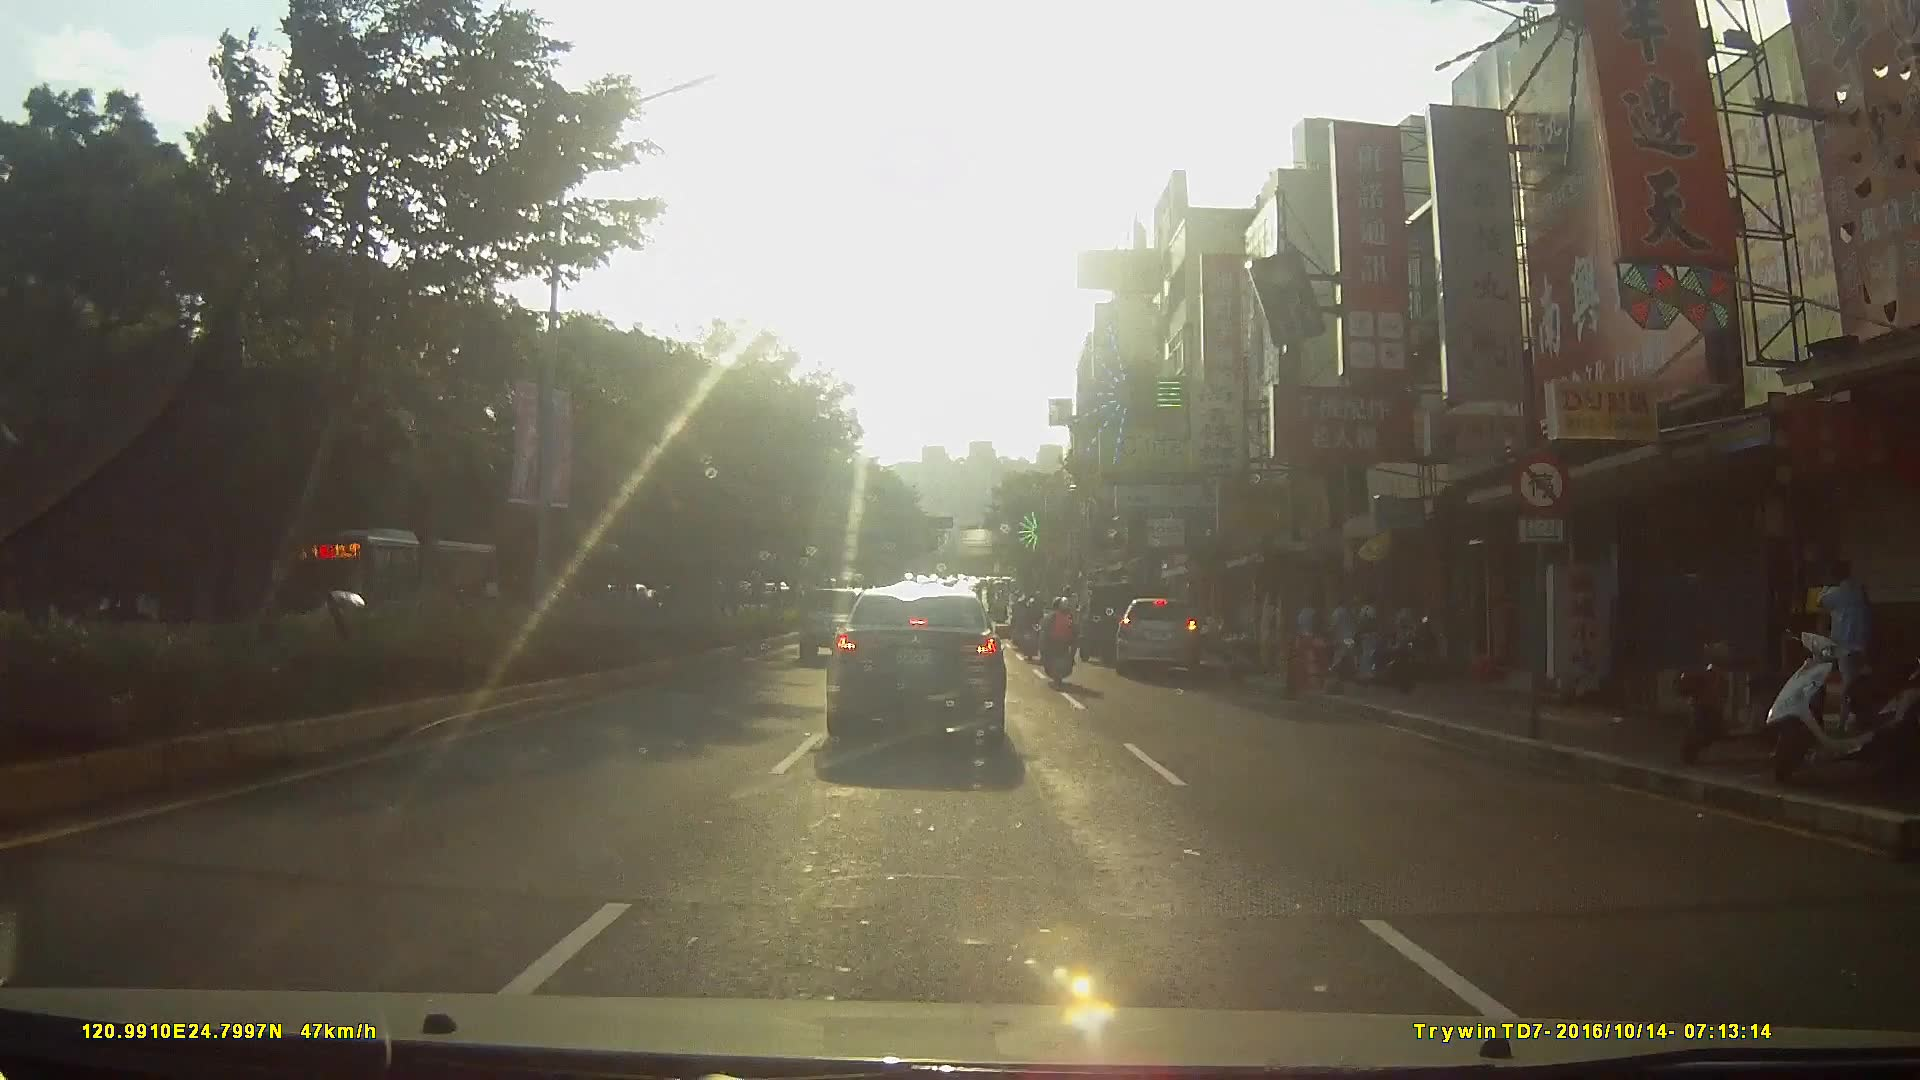pedestrian: (1812, 560, 1869, 735)
rider: (1045, 601, 1089, 699), (1017, 598, 1043, 662)
vehicle: (824, 588, 1031, 763), (274, 533, 500, 659), (1117, 600, 1209, 686), (1076, 578, 1153, 665)
